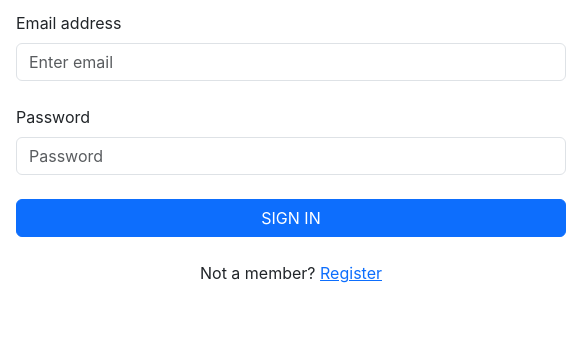
Test: Tests in SignInPage › should render hint label with required input message for email when form is invalid
Click the button "SIGN IN": {"x": 291, "y": 218} [16, 199, 566, 237]
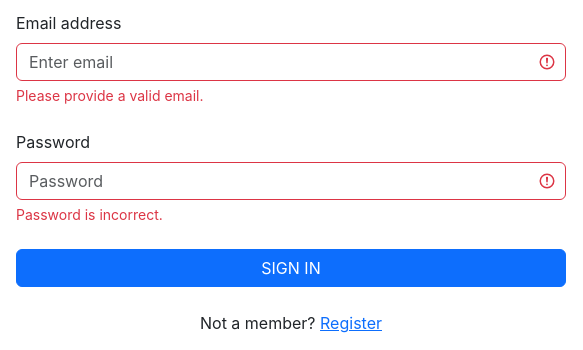
Result: the text "Please provide a valid email." is shown at [16, 87, 204, 104]
